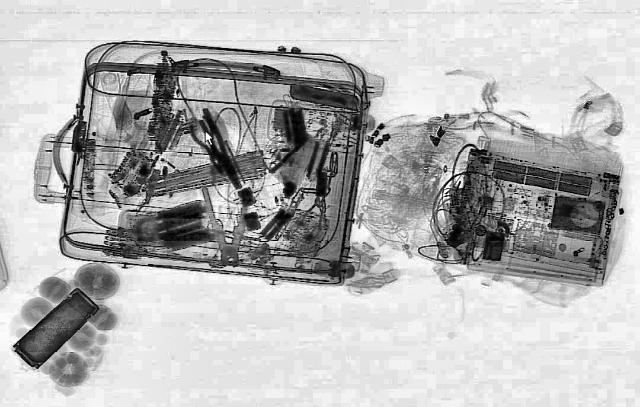Pliers: (188, 107, 248, 189), (198, 187, 250, 266), (186, 117, 238, 173)
